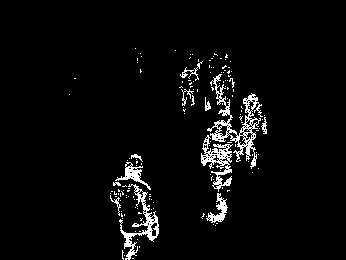person: (109, 152, 159, 260), (200, 111, 242, 226), (239, 94, 267, 169), (212, 65, 237, 115), (179, 66, 200, 114)
